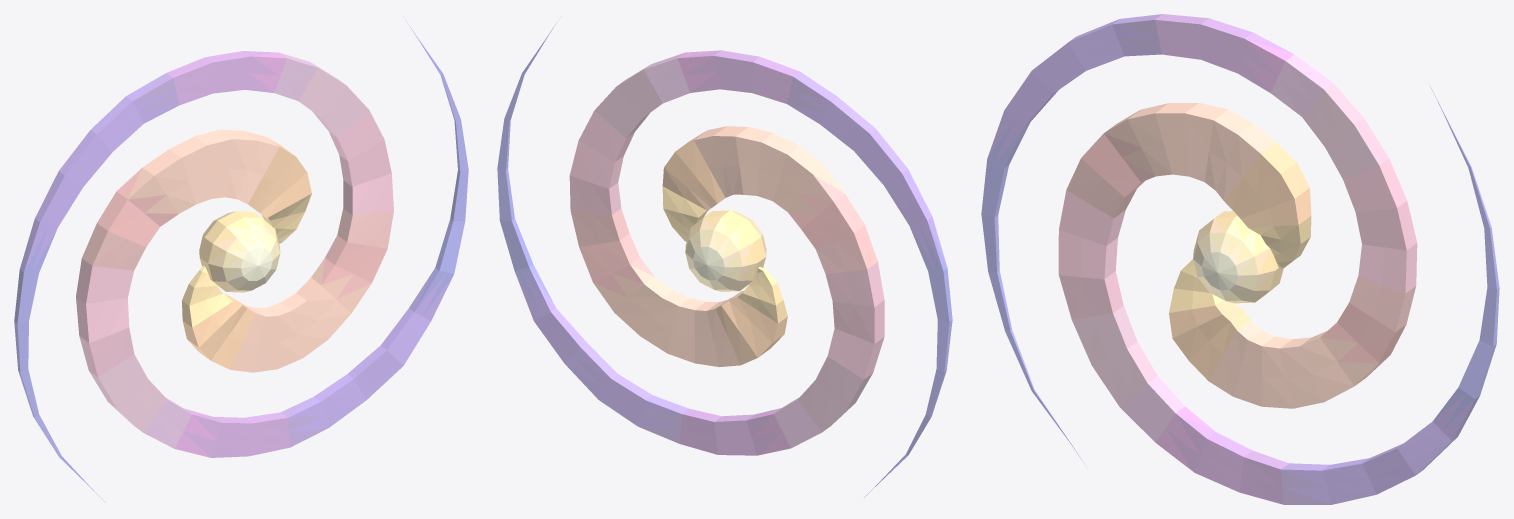
The model's file is galaxy-014.glb.
3 renders of one model, left to right at view 1: azimuth 30°, elevation 25°; view 2: azimuth 150°, elevation 25°; view 3: azimuth 330°, elevation 25°, orthographic. The views are drawn at different scales.
Visible parts, largest first — view 1: galaxy-014; view 2: galaxy-014; view 3: galaxy-014.
Boxes of the visible parts, x1,y1,x2,y2 form: galaxy-014: (14, 21, 468, 502); galaxy-014: (497, 23, 952, 497); galaxy-014: (981, 14, 1499, 504).
Bounding box in the file's own units: 107 × 94.8 × 15.46.
